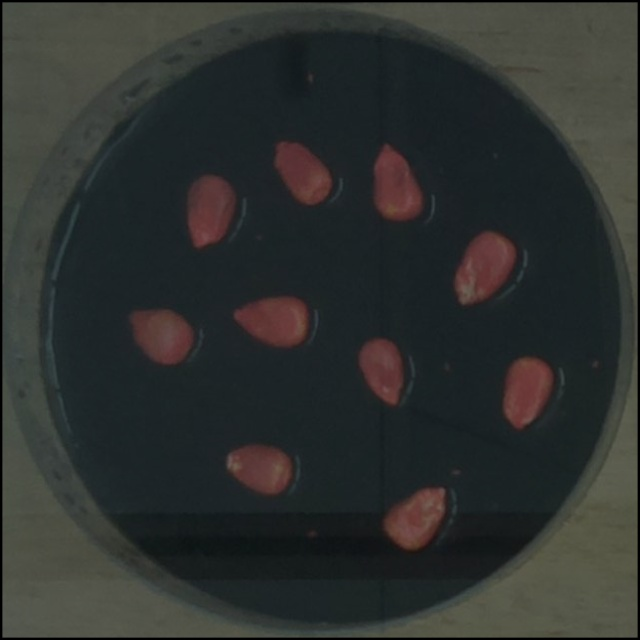Zea mays: (445, 220, 524, 314), (375, 477, 455, 557), (223, 287, 318, 353), (365, 134, 431, 228), (493, 348, 561, 436), (265, 133, 339, 212), (121, 300, 201, 373), (181, 167, 243, 255), (218, 437, 300, 501), (350, 328, 410, 411)
